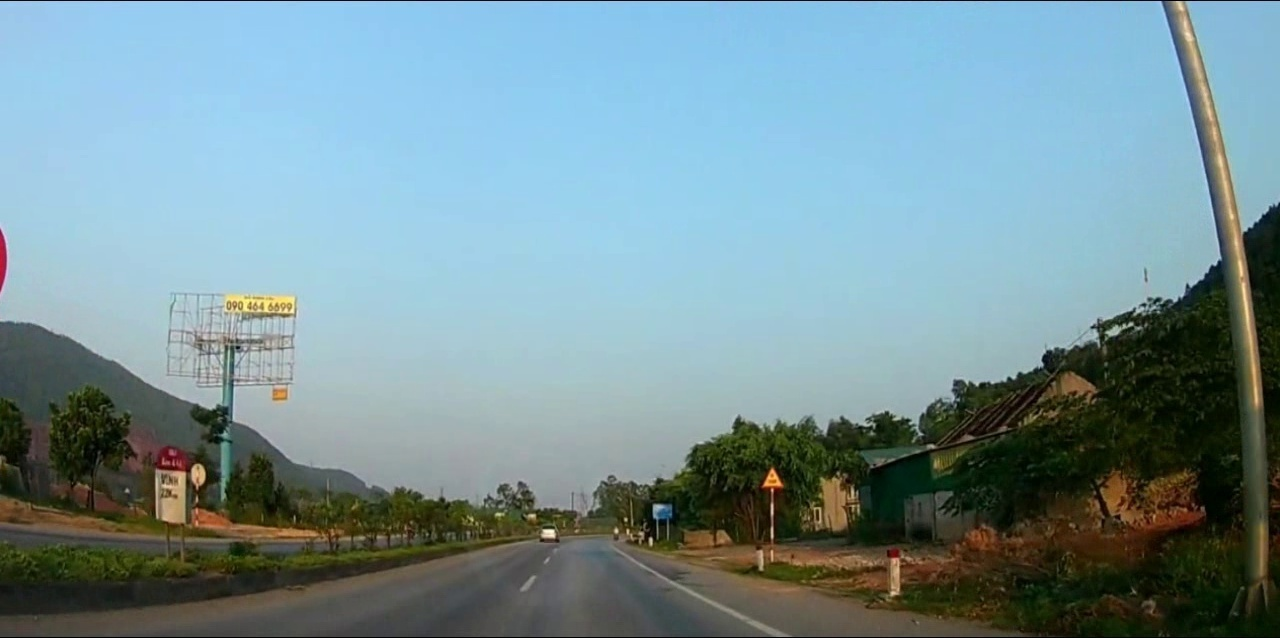Bien khac: (760, 465, 784, 490)
